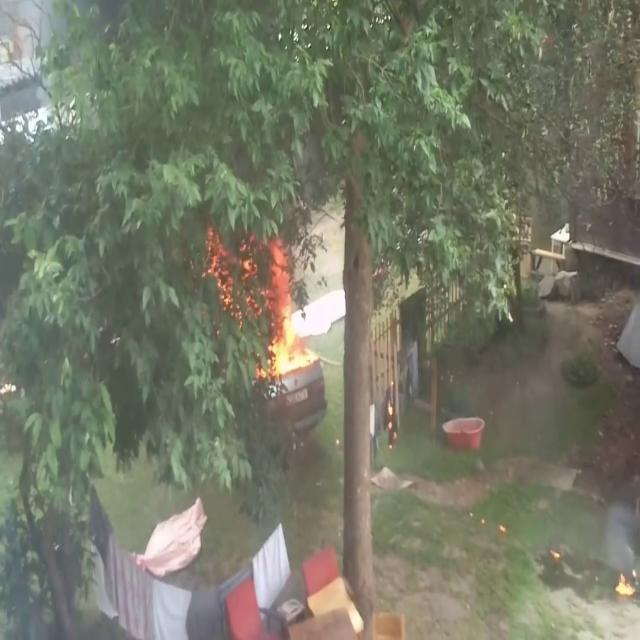Fire: (256, 253, 320, 383), (614, 563, 638, 600)
